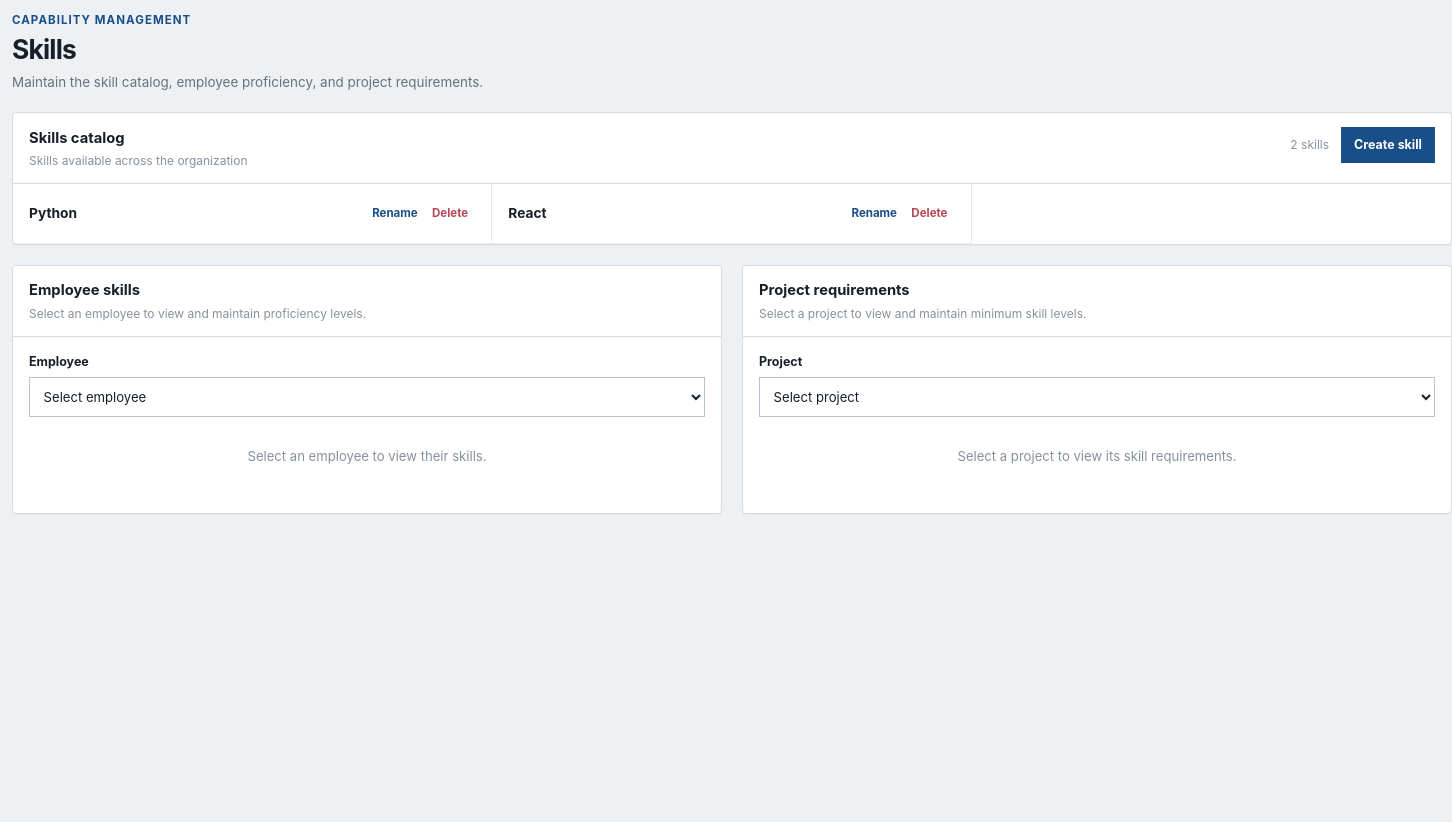
Scenario: SkillsPage › renames a catalog skill and updates its display
Expected: the text "Python" is shown, [29, 203, 77, 224]
Click the button "Rename" in the row of "Python": [395, 214] box [365, 200, 425, 227]
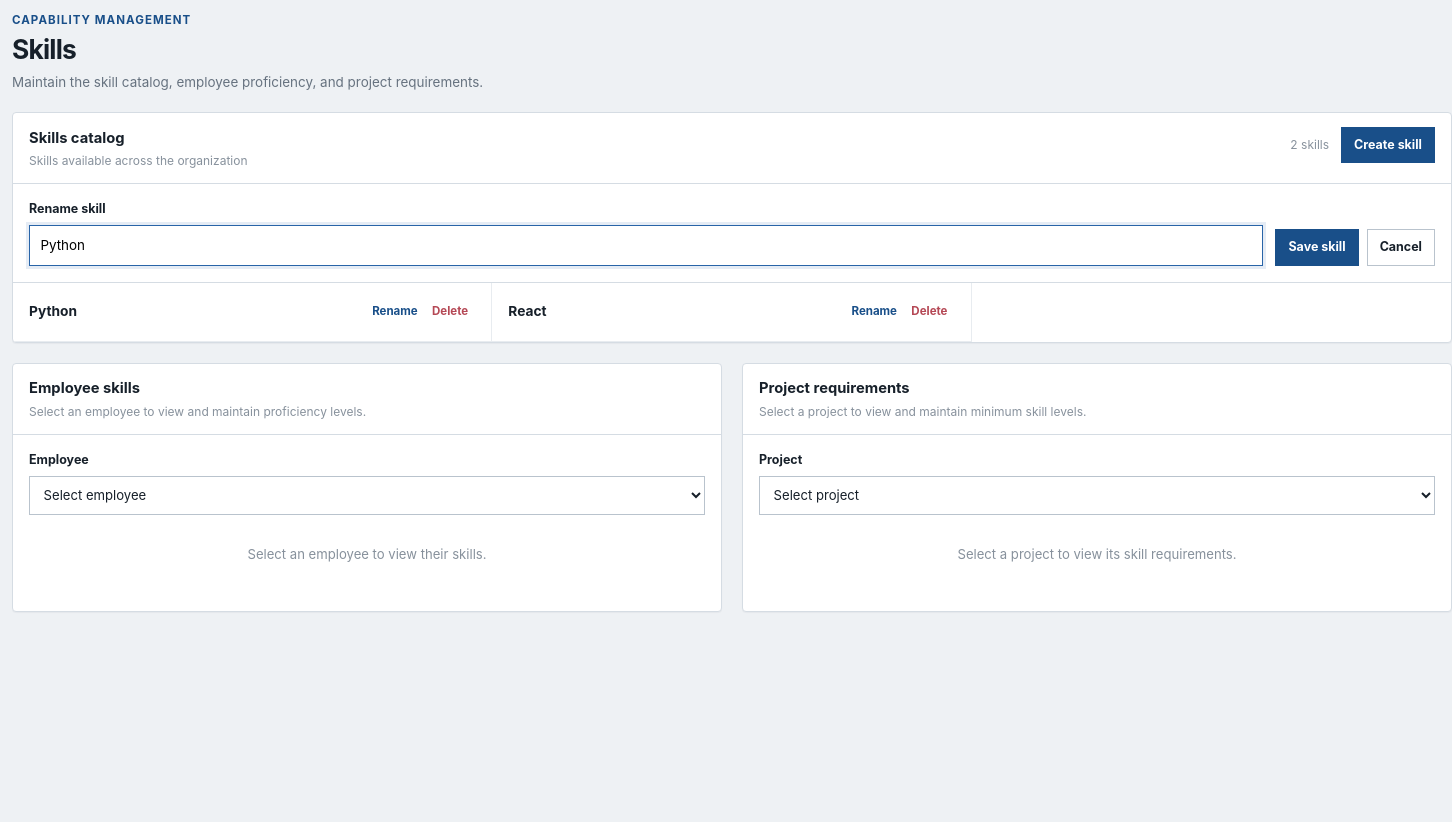
Replace the text in the field labelled "Rename skill" with "Python 3": [646, 245] box [29, 225, 1263, 266]
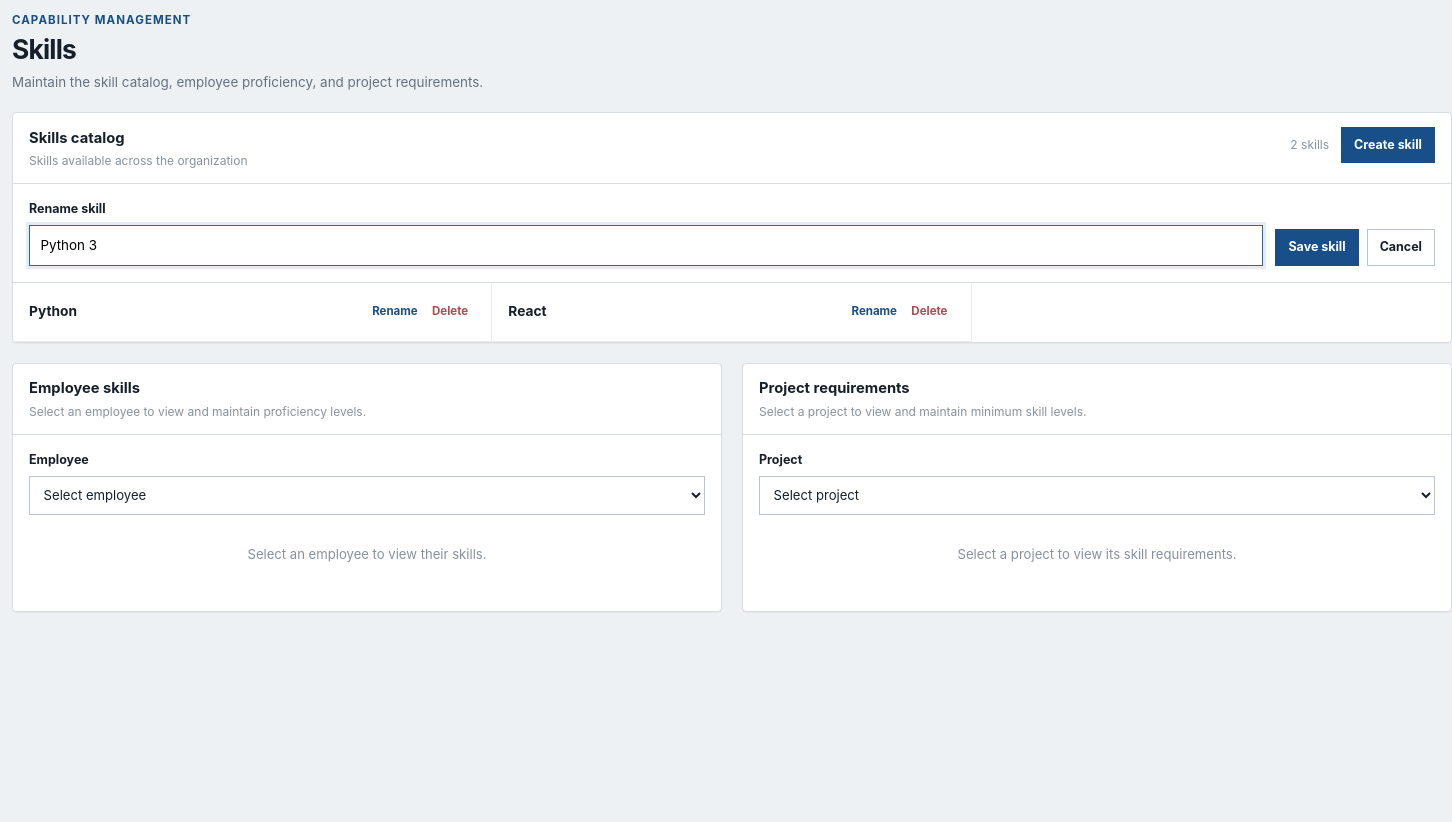
Click the button "Save skill": [1317, 247] box [1275, 229, 1359, 266]
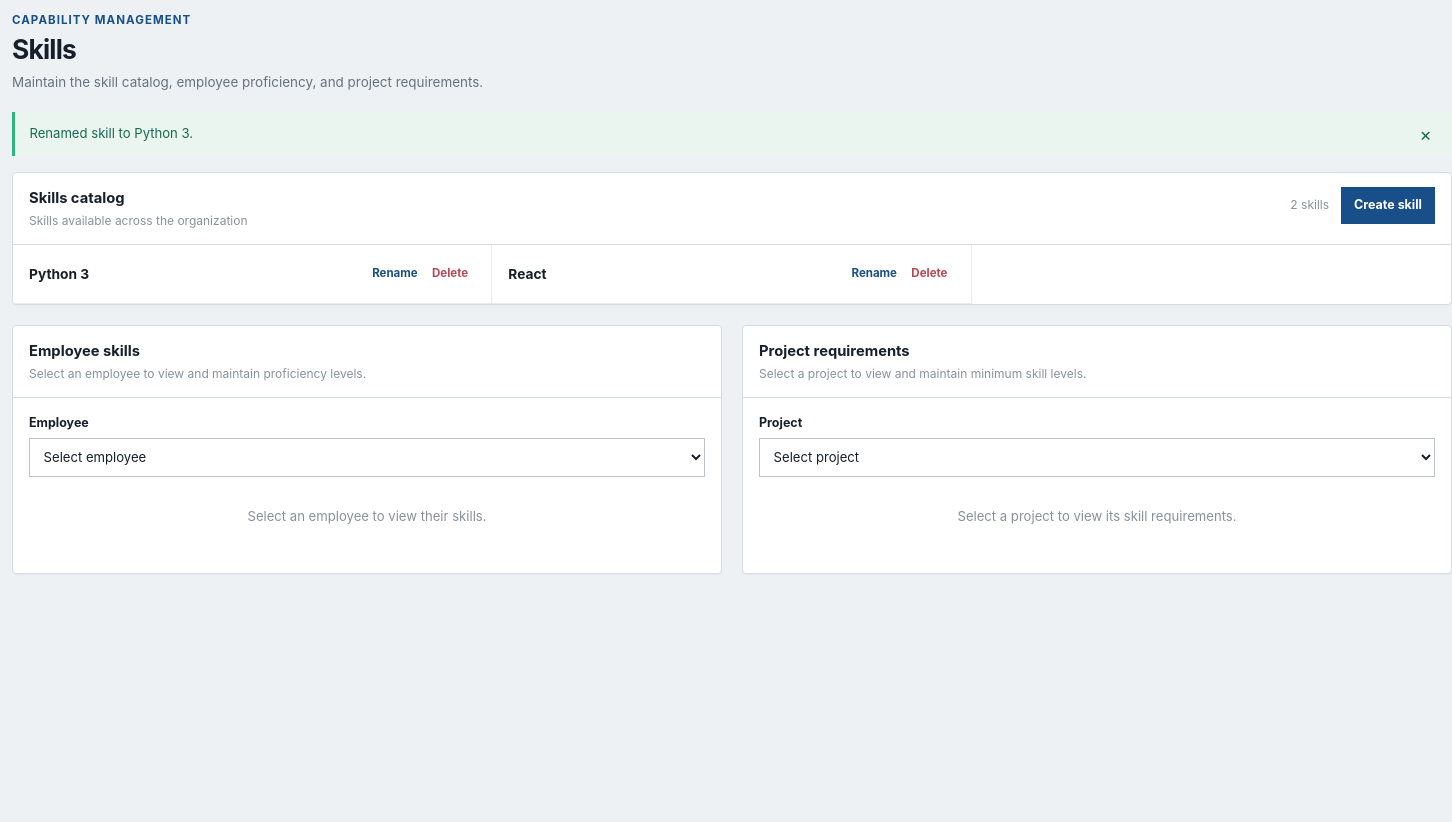
Expected: the text "Python 3" is shown, [29, 264, 89, 284]
